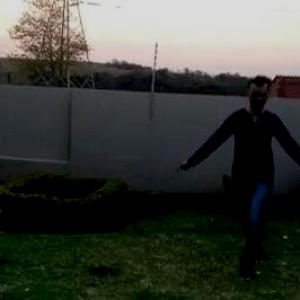land: (199, 75, 298, 244)
